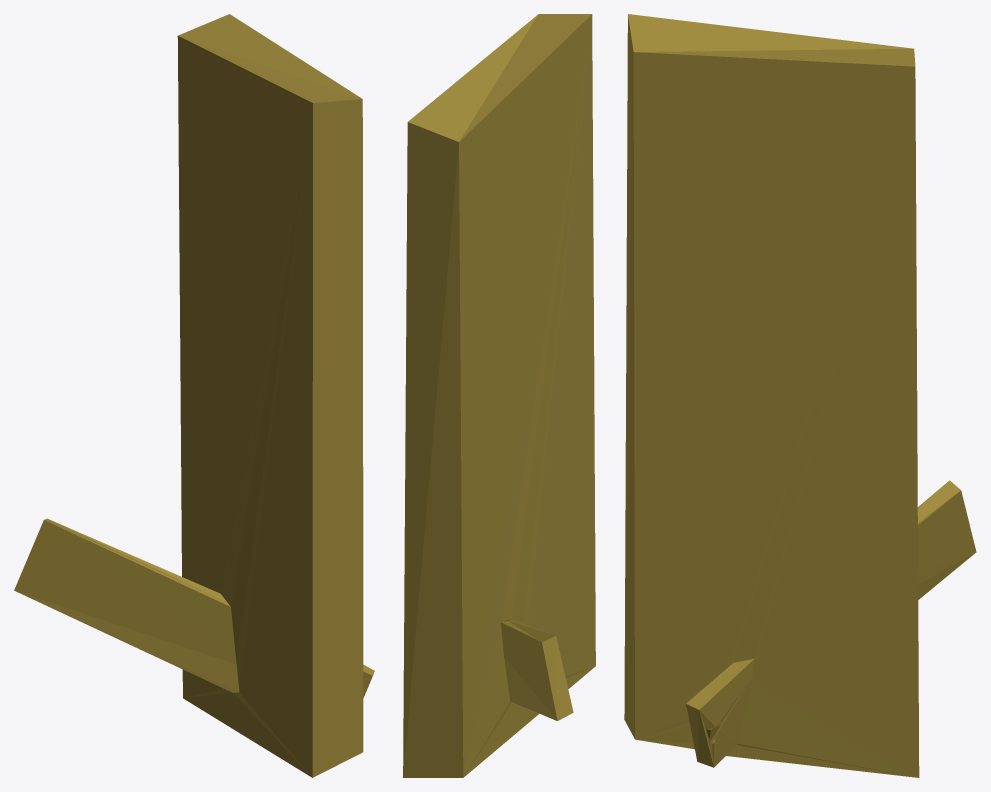
3 views of the same model, side by side, from view 1: azimuth 30°, elevation 25°; view 2: azimuth 150°, elevation 25°; view 3: azimuth 270°, elevation 25° (orthographic). The views are drawn at different scales.
Parts seen in each view (by area): view 1: 721_Cube.2895; view 2: 721_Cube.2895; view 3: 721_Cube.2895.
Boxes of the visible parts, x1,y1,x2,y2 form: 721_Cube.2895: [14, 14, 374, 777]; 721_Cube.2895: [403, 14, 595, 777]; 721_Cube.2895: [624, 14, 976, 777].
Size of the model in its own units: 4.45 by 12.62 by 5.48.
